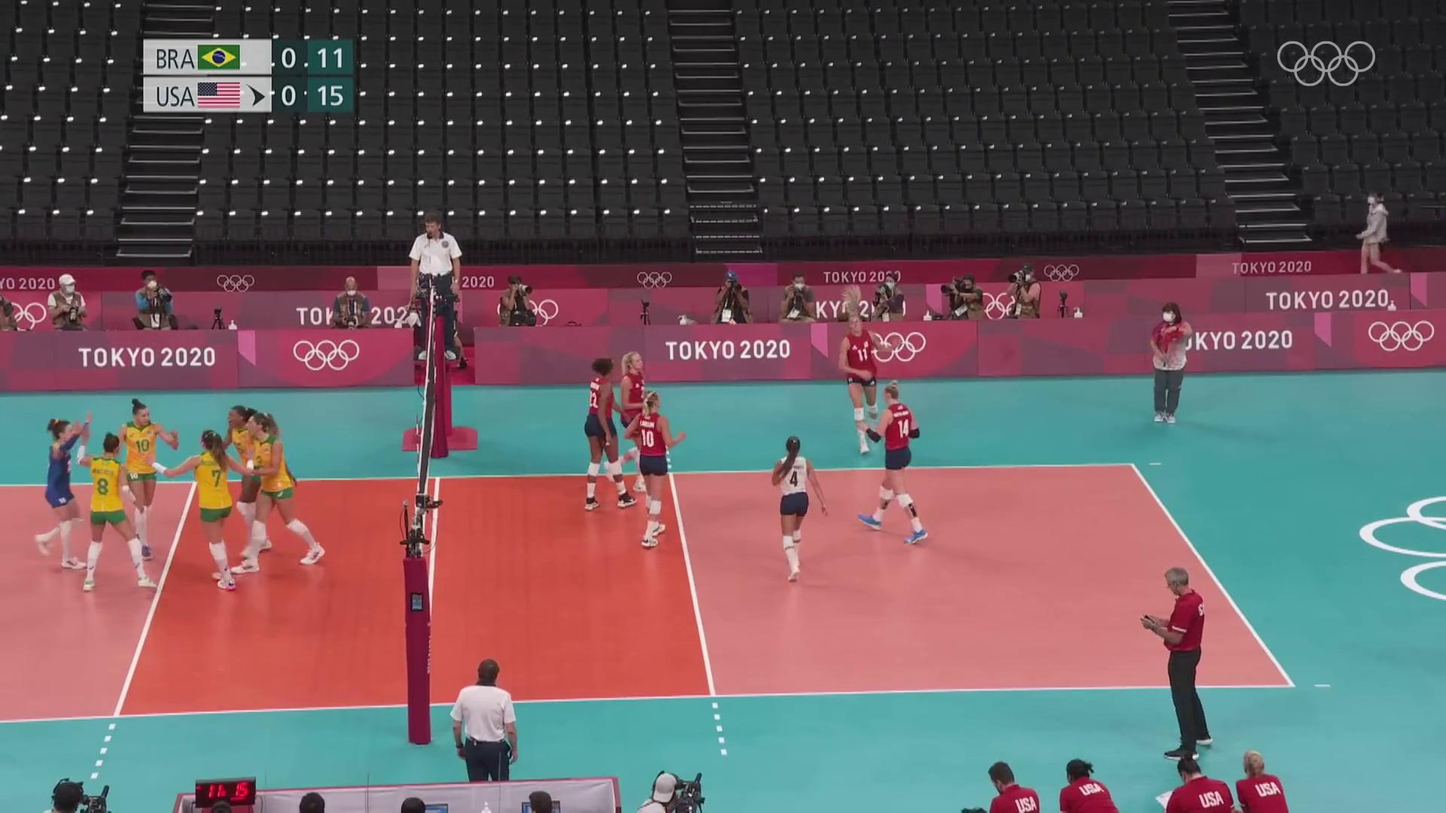player: (233, 414, 326, 572), (169, 429, 261, 588), (78, 430, 154, 590), (857, 380, 928, 543), (112, 397, 180, 562), (223, 406, 300, 551), (629, 390, 689, 548), (773, 434, 827, 582), (585, 356, 635, 509), (37, 415, 86, 570), (840, 303, 889, 456), (605, 353, 657, 492)
refree: (451, 656, 519, 799), (407, 218, 464, 364), (1149, 304, 1192, 422)
